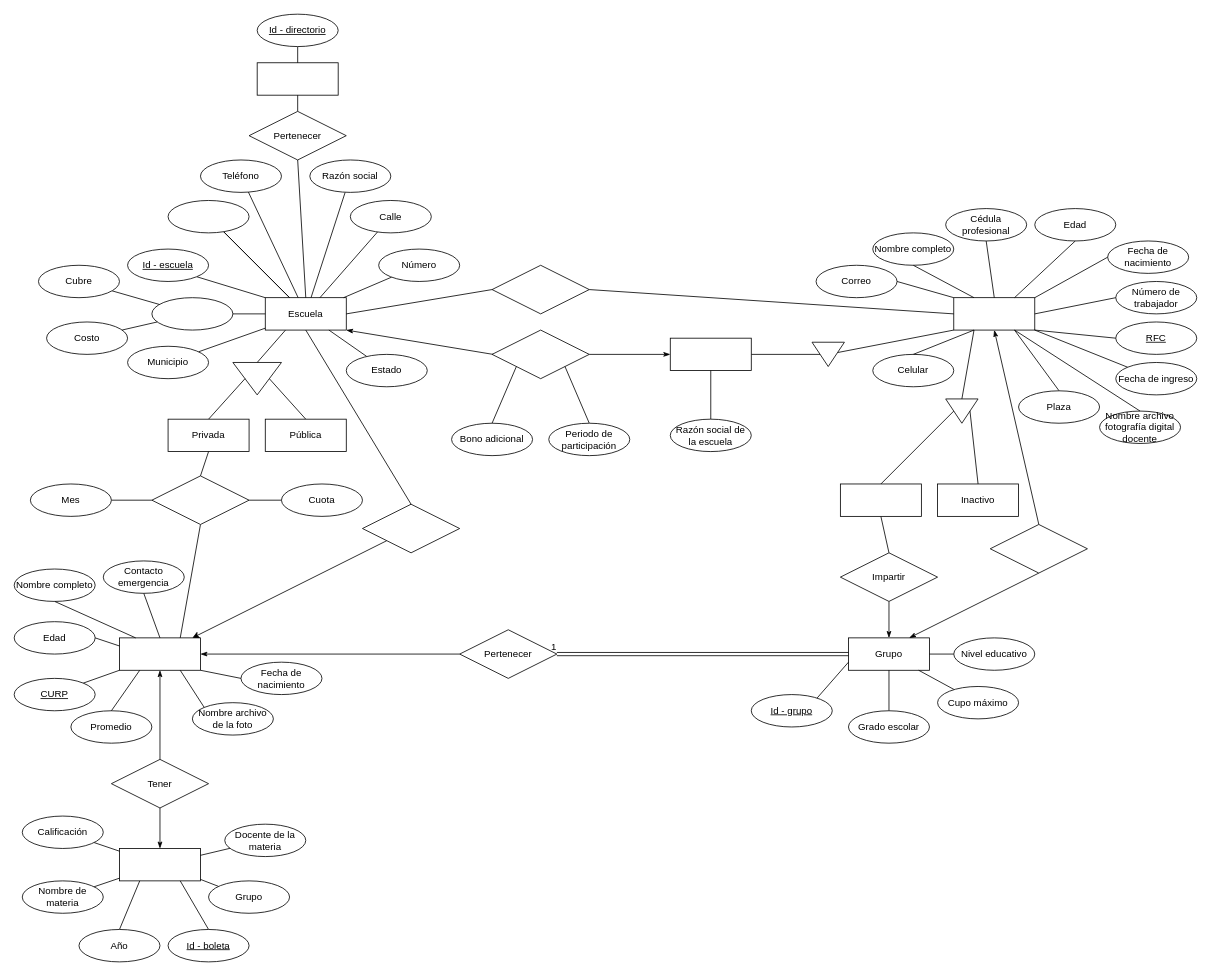
The diagram is 1211 pixels wide and 976 high, and some of its shapes have lost their labels. Each missing label, with the centre of its shape:
"Activo" belongs at (x=880, y=499).
"Alumno" belongs at (x=159, y=653).
"Boletas" belongs at (x=159, y=864).
"Cobrar" belongs at (x=200, y=499).
"CP" belongs at (x=208, y=216).
"Director" belongs at (x=710, y=354).
"Directorio" belongs at (x=297, y=78).
"Dirigir" belongs at (x=540, y=354).
"Docente" belongs at (x=994, y=313).
"Estudiar" belongs at (x=411, y=528).
"Laborar" belongs at (x=540, y=289).
"Nombre de seguro" belongs at (x=192, y=313).
"Titular" belongs at (x=1038, y=548).
